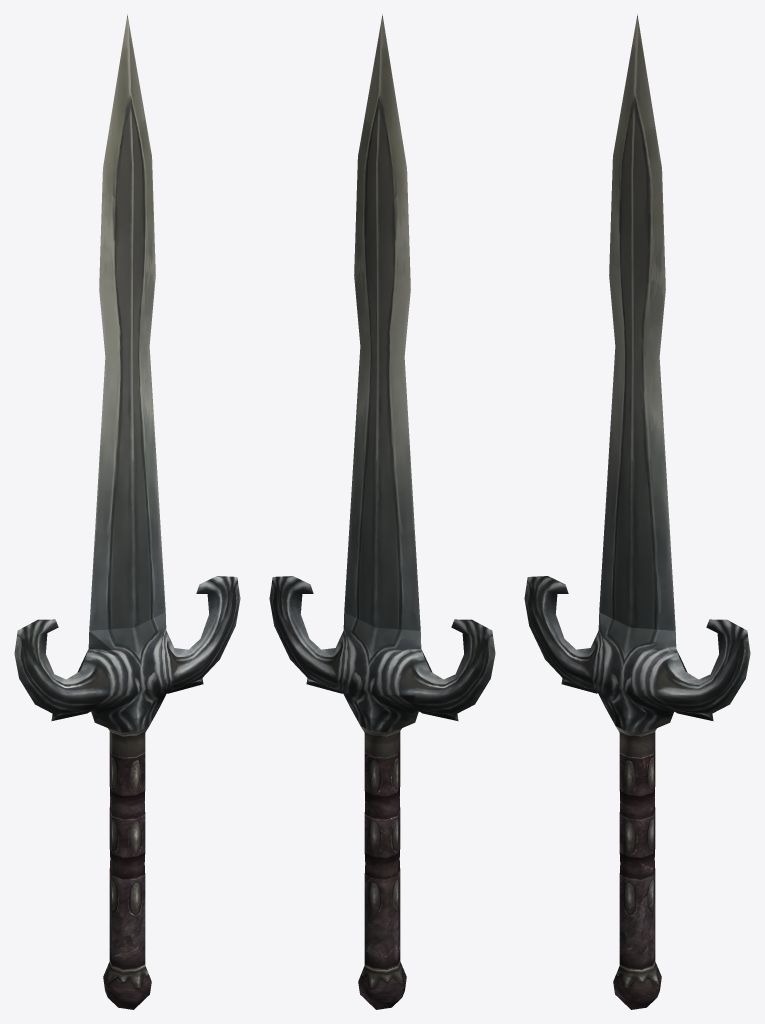
The model's file is Weapon_27.fbx.
The picture shows the model from 3 angles, left to right: view 1: azimuth 30°, elevation 25°; view 2: azimuth 150°, elevation 25°; view 3: azimuth 330°, elevation 25°; orthographic projection.
Visible parts, largest first — view 1: Weapon_27; view 2: Weapon_27; view 3: Weapon_27.
Part boxes in pixels (x1,y1,x2,y2): Weapon_27: [14, 14, 240, 1009]; Weapon_27: [269, 14, 495, 1009]; Weapon_27: [524, 14, 750, 1009].
Size of the model in its own units: 24.84 by 7.4 by 104.
